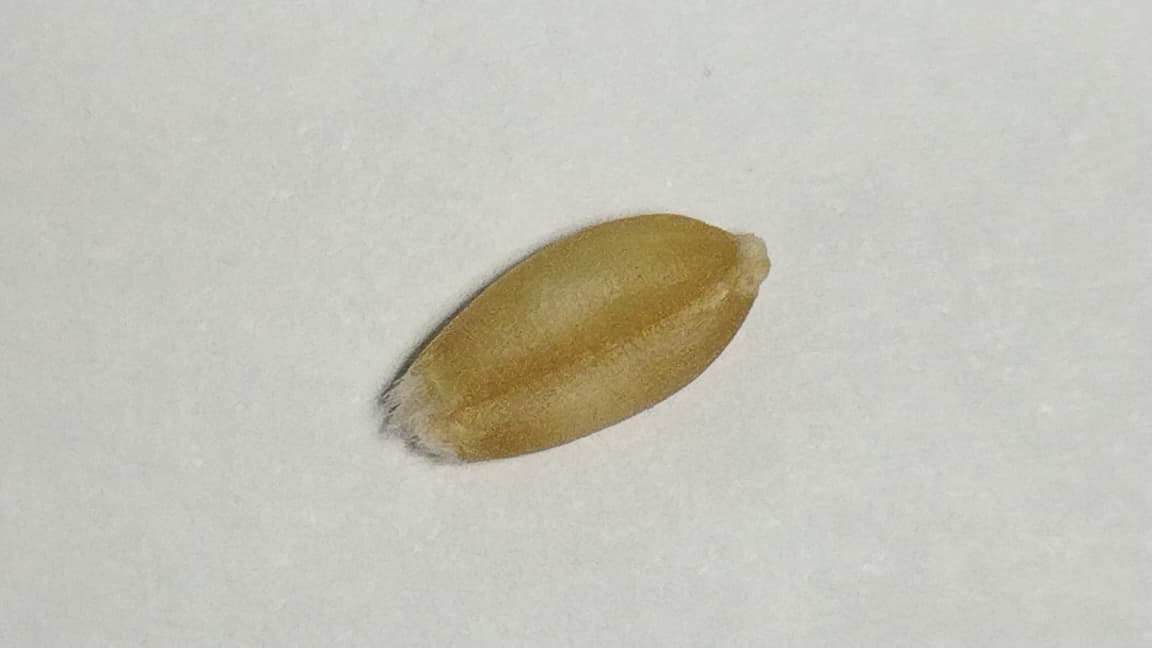healthy: (406, 214, 768, 450)
